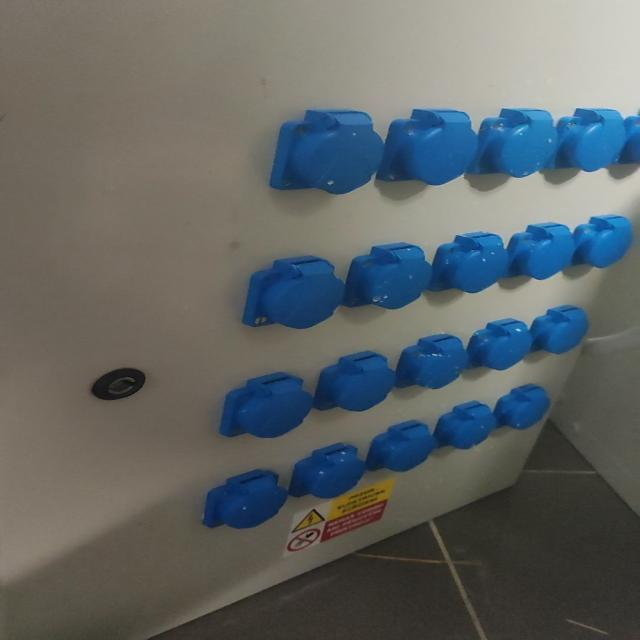house plug covered: (270, 110, 385, 197), (377, 109, 479, 188), (242, 257, 344, 332), (466, 108, 559, 179), (338, 242, 433, 310), (219, 372, 313, 439), (201, 470, 287, 532), (313, 350, 395, 412), (553, 108, 626, 173), (433, 234, 503, 294), (292, 444, 366, 500), (395, 334, 469, 389), (368, 422, 434, 473), (514, 223, 572, 281), (433, 402, 498, 452), (572, 216, 632, 270), (469, 319, 530, 370), (529, 305, 590, 355), (492, 384, 551, 430)
